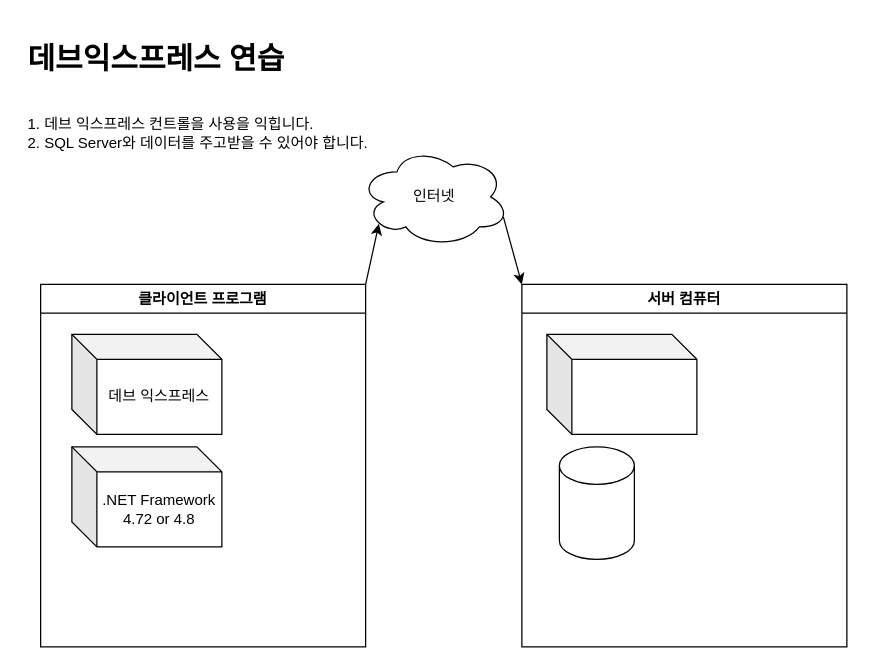
Image size: 869x669. Some labels were removed from this diagram. Here are the shapes that lost their labels. From the top down, the centre of each, then its label:
At (x=621, y=383): "우분투 리눅스".
At (x=596, y=502): "SQL Server".
